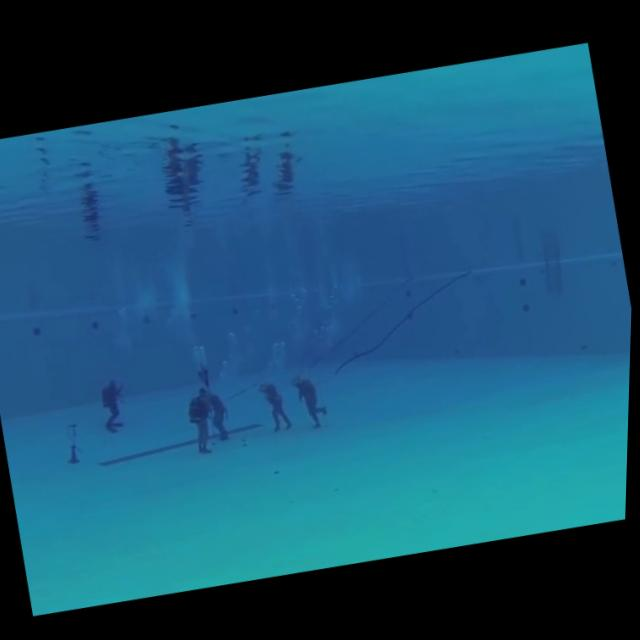human: (289, 358, 342, 431), (181, 379, 227, 458), (91, 368, 137, 440), (254, 372, 300, 438), (200, 380, 241, 447)
